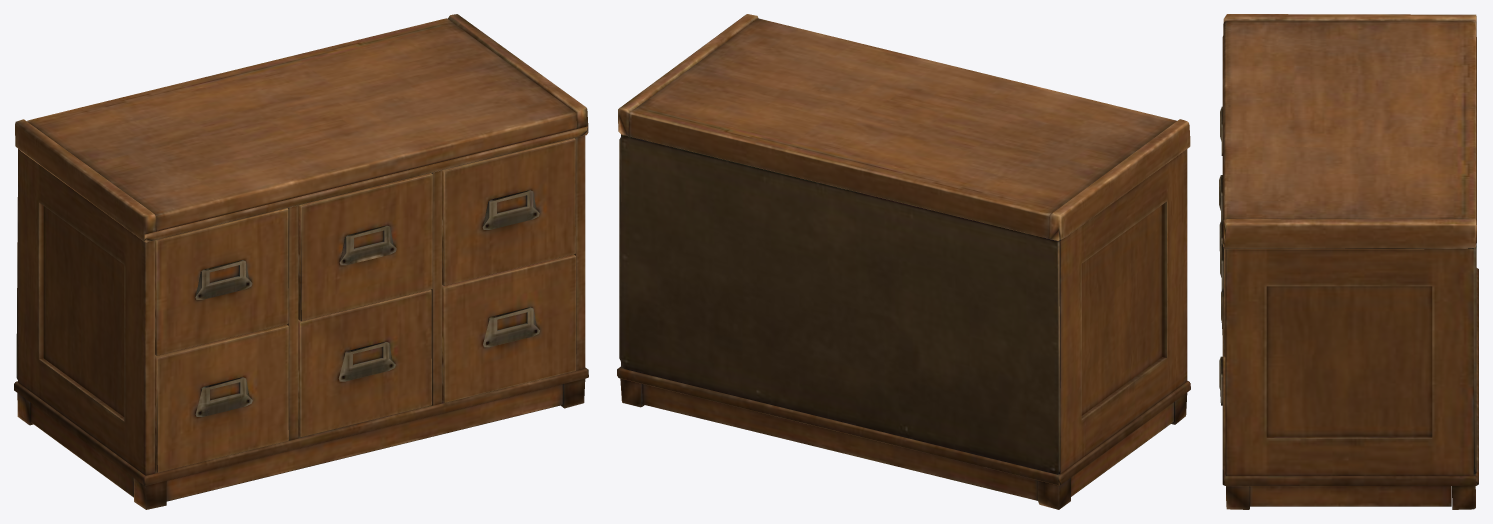
The model's file is vintage_wooden_drawer_01_lod2.glb.
3 views of the same model, side by side, from view 1: azimuth 30°, elevation 25°; view 2: azimuth 150°, elevation 25°; view 3: azimuth 270°, elevation 25° (orthographic). The views are drawn at different scales.
Visible parts, largest first — view 1: vintage_wooden_drawer_01_body, vintage_wooden_drawer_01_drawer02, vintage_wooden_drawer_01_drawer06, vintage_wooden_drawer_01_drawer04, vintage_wooden_drawer_01_drawer03, vintage_wooden_drawer_01_drawer05, vintage_wooden_drawer_01_drawer01; view 2: vintage_wooden_drawer_01_body; view 3: vintage_wooden_drawer_01_body, vintage_wooden_drawer_01_drawer06, vintage_wooden_drawer_01_drawer03.
Part boxes in pixels (bbox=[...]): vintage_wooden_drawer_01_body: bbox=[14, 14, 588, 509]; vintage_wooden_drawer_01_drawer02: bbox=[298, 173, 432, 321]; vintage_wooden_drawer_01_drawer06: bbox=[442, 254, 576, 402]; vintage_wooden_drawer_01_drawer04: bbox=[155, 324, 288, 472]; vintage_wooden_drawer_01_drawer03: bbox=[442, 138, 575, 285]; vintage_wooden_drawer_01_drawer05: bbox=[298, 289, 431, 437]; vintage_wooden_drawer_01_drawer01: bbox=[155, 208, 288, 355]; vintage_wooden_drawer_01_body: bbox=[617, 14, 1190, 509]; vintage_wooden_drawer_01_body: bbox=[1222, 14, 1478, 509]; vintage_wooden_drawer_01_drawer06: bbox=[1219, 296, 1225, 470]; vintage_wooden_drawer_01_drawer03: bbox=[1220, 243, 1225, 356].
Bounding box in the file's own units: 0.8566 × 0.5441 × 0.4454.
1 material, 1 textured.
